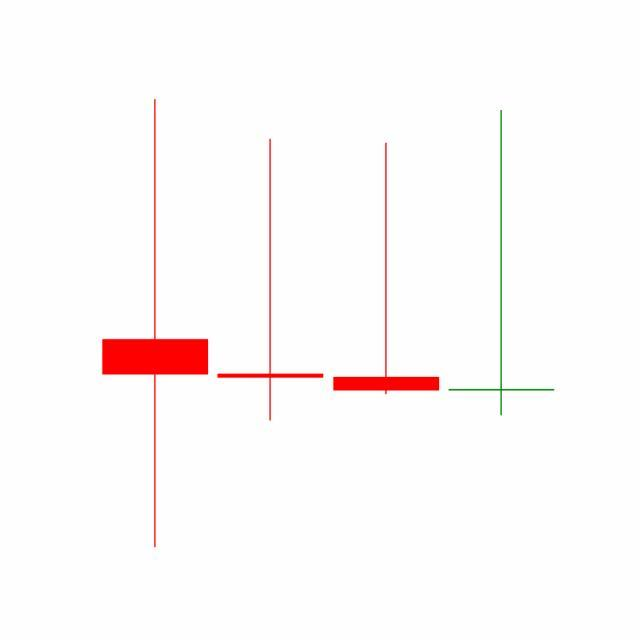Spinning Top: (444, 108, 560, 420)
